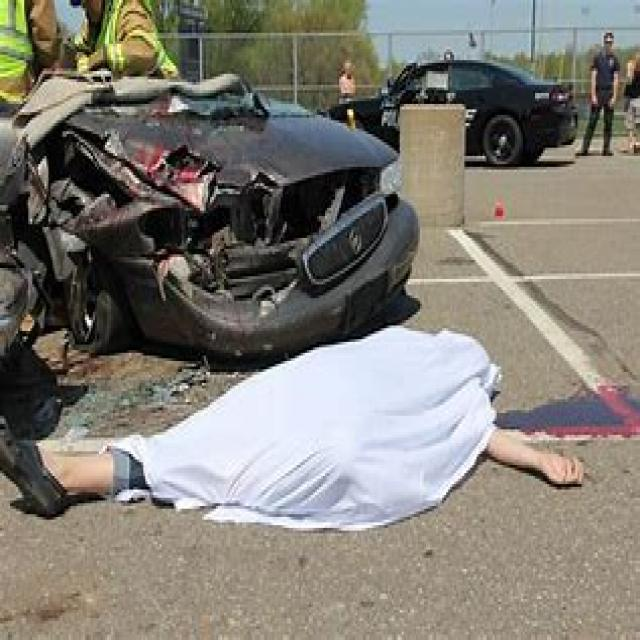Accident: (37, 24, 572, 620)
